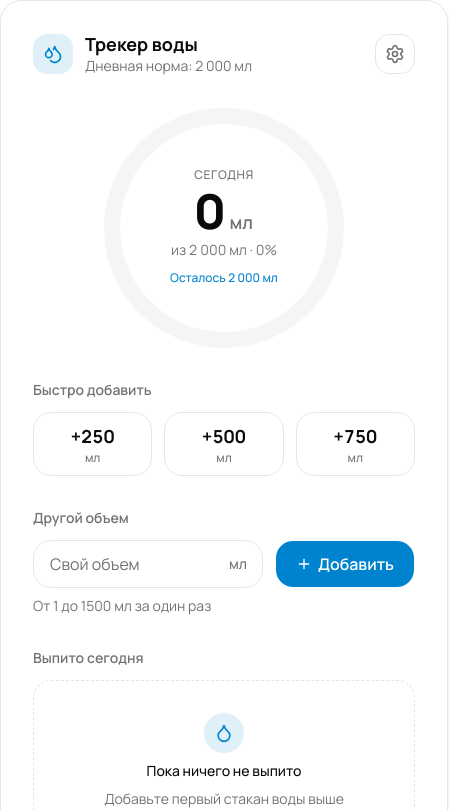
Test: WaterTracker: успешная отправка › добавляет новую запись в список и очищает поле ввода
Type "250" into the field with placeholder "Свой объем".
click(148, 564); type("250")  # box [33,540,263,588]
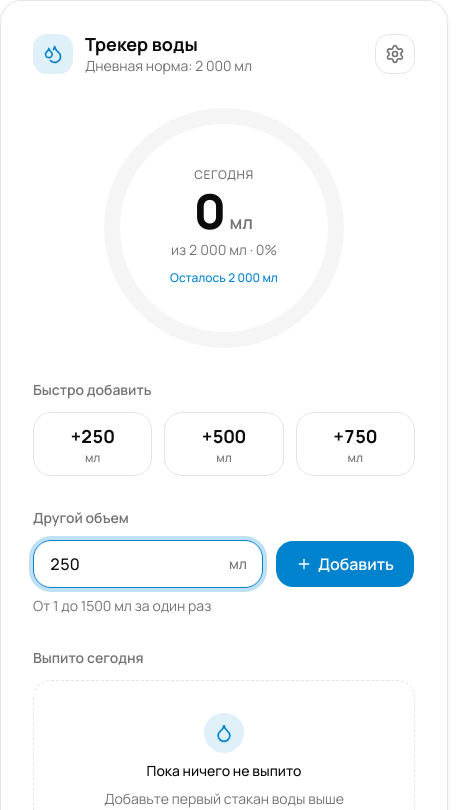
Click the button "Добавить".
click(345, 564)  # box [275,540,415,588]
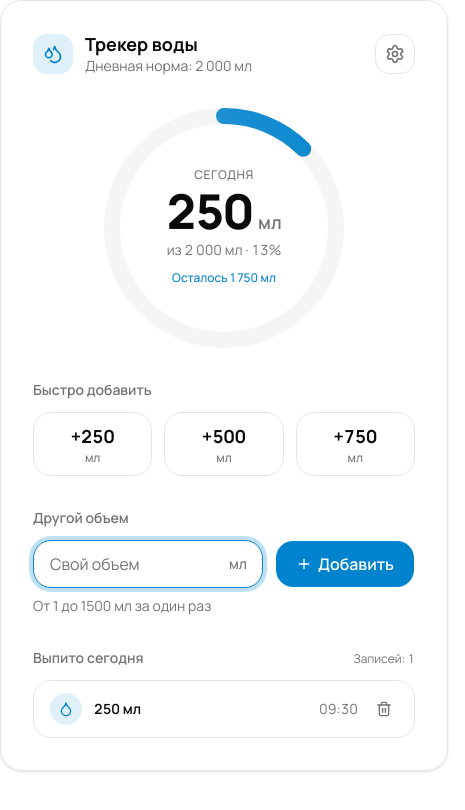
Check: the text "250 мл" is shown, box [94,698,141,718]
Check: the field with placeholder "Свой объем" is empty, box [33,540,263,588]
